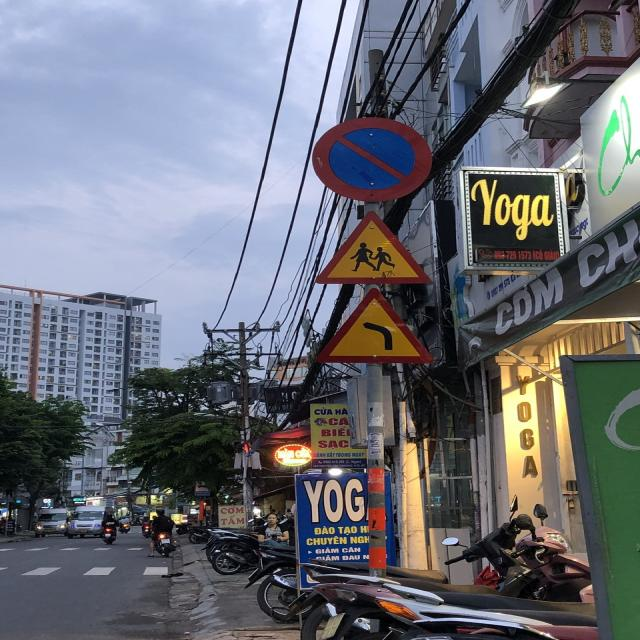Bien bao cam do xe: (304, 113, 440, 206)
Bien bao cho ngoat nguy hiem: (301, 286, 439, 369)
Bien bao tre em: (308, 210, 439, 286)
